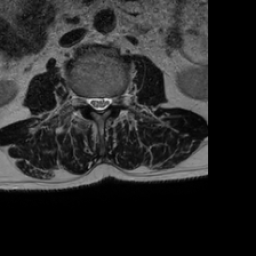CCS_normal: (94, 88, 102, 118)
LFS_normal: (111, 88, 120, 110)
LLS_normal: (102, 88, 111, 113)
RFS_normal: (79, 88, 86, 111)
RLS_normal: (86, 89, 94, 113)
